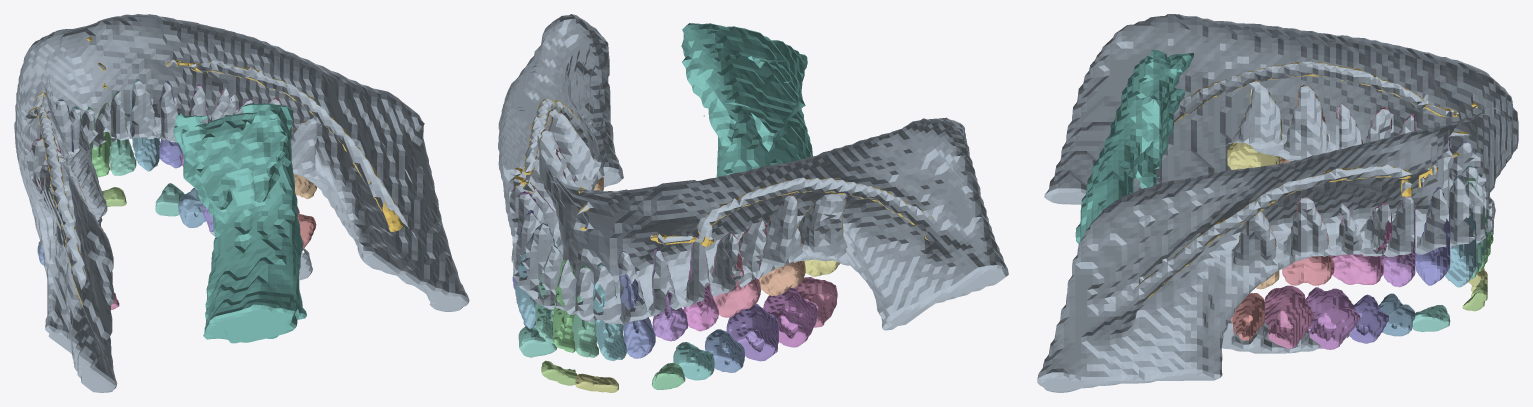
The model's file is ToothFairy3P_004.glb.
3 views of the same model, side by side, from view 1: azimuth 30°, elevation 25°; view 2: azimuth 150°, elevation 25°; view 3: azimuth 270°, elevation 25° (orthographic). The views are drawn at different scales.
Visible parts, largest first — view 1: jaws__1, other__7, teeth__33, teeth__32, teeth__24, canals__3, teeth__23, teeth__31, teeth__34, teeth__38, teeth__28; view 2: jaws__1, other__7, teeth__16, teeth__17, teeth__43, teeth__46, teeth__42, teeth__15, teeth__18, teeth__47, teeth__44, teeth__14 (+11 smaller); view 3: jaws__1, other__7, teeth__26, teeth__27, teeth__36, jaws__2, teeth__37, teeth__33, teeth__34, teeth__25, teeth__28, teeth__48 (+7 smaller).
Boxes of the visible parts, x1=… form: jaws__1: x1=14, y1=14, x2=469, y2=392; other__7: x1=173, y1=103, x2=306, y2=343; teeth__33: x1=130, y1=79, x2=159, y2=171; teeth__32: x1=110, y1=91, x2=136, y2=175; teeth__24: x1=178, y1=188, x2=205, y2=227; canals__3: x1=195, y1=61, x2=403, y2=231; teeth__23: x1=155, y1=183, x2=184, y2=216; teeth__31: x1=92, y1=103, x2=111, y2=177; teeth__34: x1=158, y1=80, x2=182, y2=168; teeth__38: x1=291, y1=119, x2=316, y2=199; teeth__28: x1=297, y1=212, x2=316, y2=247; jaws__1: x1=498, y1=14, x2=1008, y2=330; other__7: x1=681, y1=23, x2=812, y2=177; teeth__16: x1=726, y1=303, x2=778, y2=361; teeth__17: x1=763, y1=287, x2=817, y2=347; teeth__43: x1=619, y1=250, x2=655, y2=358; teeth__46: x1=713, y1=221, x2=767, y2=317; teeth__42: x1=593, y1=262, x2=626, y2=360; teeth__15: x1=704, y1=329, x2=744, y2=372; teeth__18: x1=794, y1=277, x2=837, y2=327; teeth__47: x1=759, y1=194, x2=805, y2=296; teeth__44: x1=652, y1=249, x2=688, y2=341; teeth__14: x1=673, y1=342, x2=714, y2=380; jaws__1: x1=1037, y1=14, x2=1518, y2=392; other__7: x1=1075, y1=50, x2=1193, y2=244; teeth__26: x1=1306, y1=287, x2=1359, y2=349; teeth__27: x1=1264, y1=285, x2=1313, y2=349; teeth__36: x1=1331, y1=203, x2=1392, y2=284; jaws__2: x1=1221, y1=320, x2=1349, y2=353; teeth__37: x1=1282, y1=197, x2=1334, y2=285; teeth__33: x1=1445, y1=176, x2=1476, y2=287; teeth__34: x1=1415, y1=187, x2=1450, y2=285; teeth__25: x1=1349, y1=294, x2=1388, y2=343; teeth__28: x1=1230, y1=293, x2=1264, y2=342; teeth__48: x1=1227, y1=87, x2=1282, y2=169.
Bounding box in the file's own units: 99.62 × 50.1 × 99.77.
